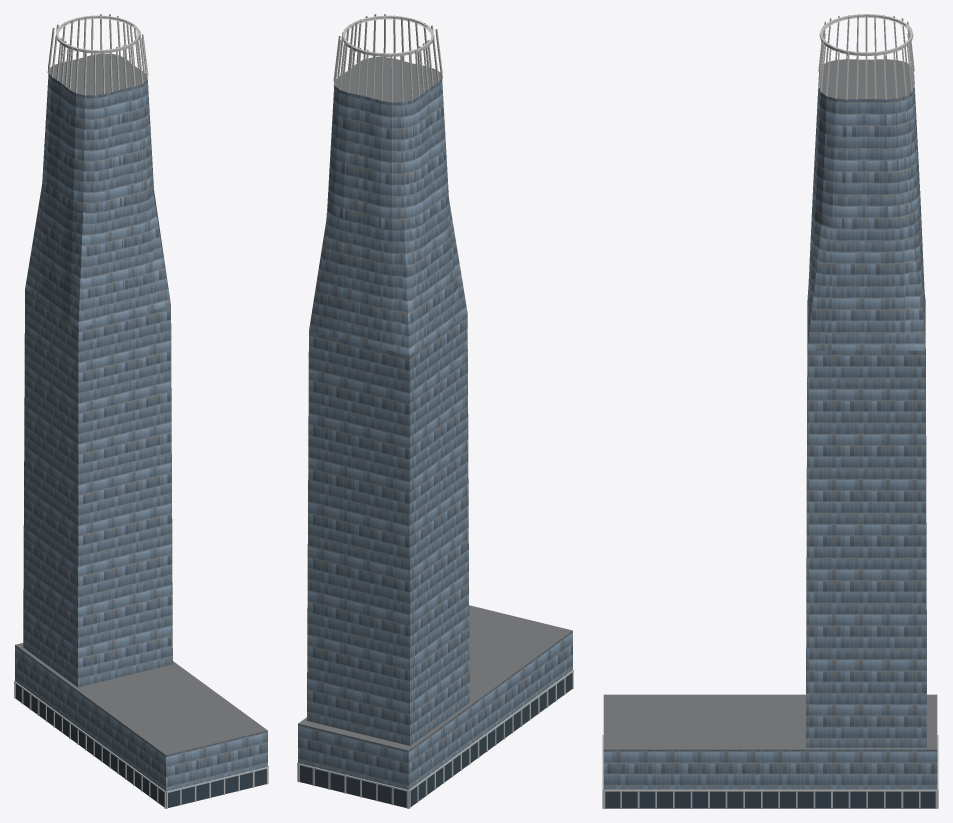
Rendered from hudson_yards_15.glb.
3 renders of one model, left to right at view 1: azimuth 30°, elevation 25°; view 2: azimuth 150°, elevation 25°; view 3: azimuth 270°, elevation 25°, orthographic. The views are drawn at different scales.
Parts seen in each view (by area): view 1: hudson_yards_15; view 2: hudson_yards_15; view 3: hudson_yards_15.
Boxes of the visible parts, left/top/right/bottom form: hudson_yards_15: left=14, top=14, right=268, bottom=808; hudson_yards_15: left=297, top=14, right=573, bottom=808; hudson_yards_15: left=602, top=14, right=938, bottom=808.
Bounding box in the file's own units: 44.79 × 279 × 114.
2 materials, 2 textured.
